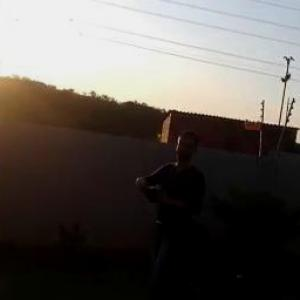follow: (129, 124, 213, 299)
